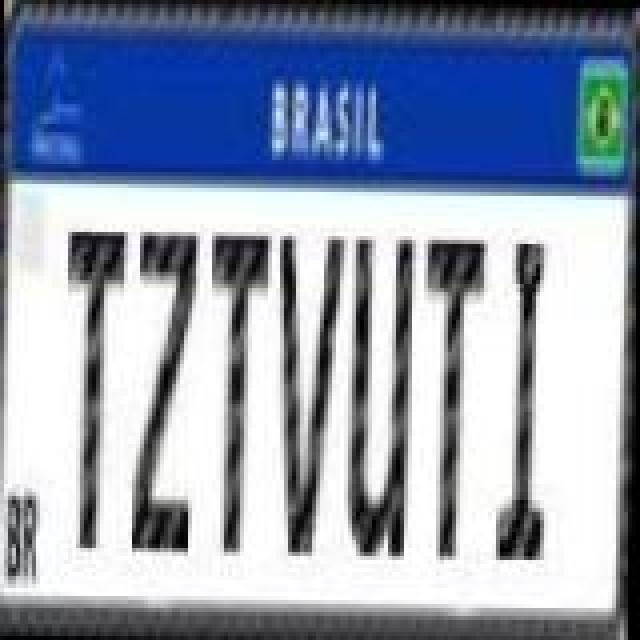I: (492, 238, 552, 562)
T: (204, 224, 272, 560), (60, 226, 128, 550), (416, 234, 484, 558)
U: (346, 228, 418, 564)
V: (272, 232, 348, 556)
Z: (132, 228, 200, 552)
